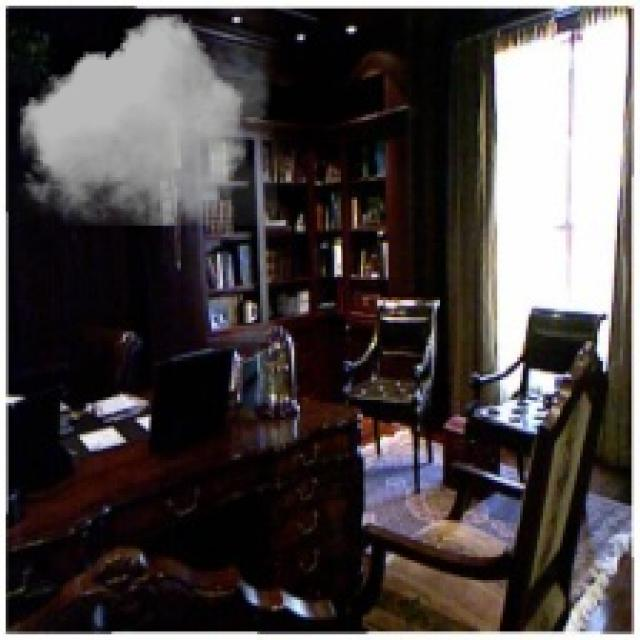smoke: (14, 14, 277, 226)
